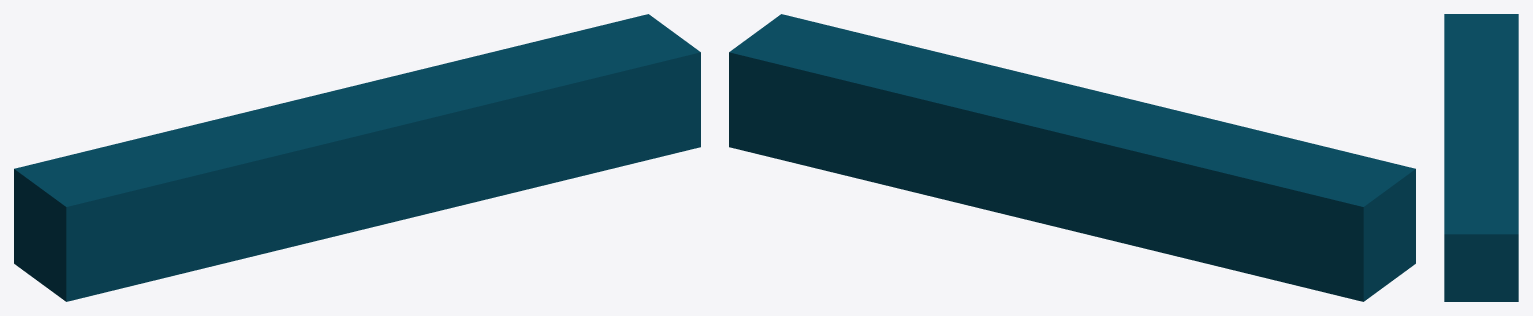
The model's file is F3InteractablePlatform1.fbx.
The picture shows the model from 3 angles, left to right: view 1: azimuth 30°, elevation 25°; view 2: azimuth 150°, elevation 25°; view 3: azimuth 270°, elevation 25°; orthographic projection. The views are drawn at different scales.
Parts seen in each view (by area): view 1: F1InteractablePlatform.002; view 2: F1InteractablePlatform.002; view 3: F1InteractablePlatform.002.
Boxes of the visible parts, x1,y1,x2,y2 form: F1InteractablePlatform.002: (14, 14, 700, 301); F1InteractablePlatform.002: (729, 14, 1415, 301); F1InteractablePlatform.002: (1444, 14, 1518, 301).
Size of the model in its own units: 70 by 10 by 10.
